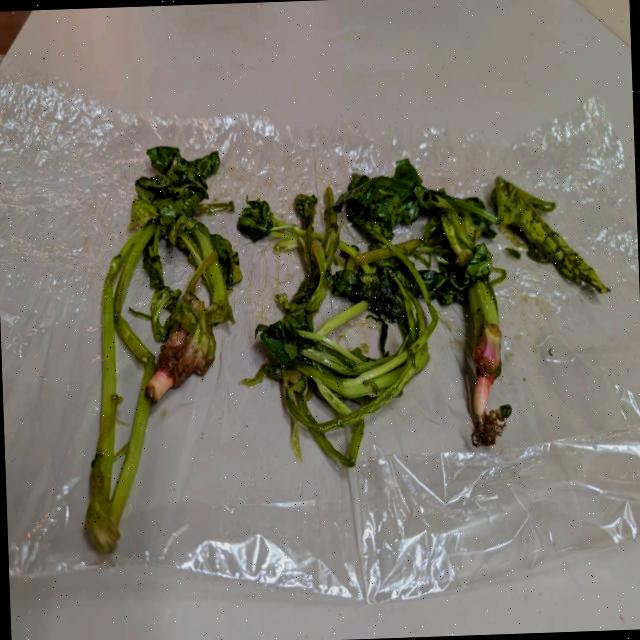rotten spinach: (64, 148, 612, 558), (64, 131, 280, 571), (366, 136, 598, 488), (268, 112, 472, 496), (64, 146, 282, 498)
